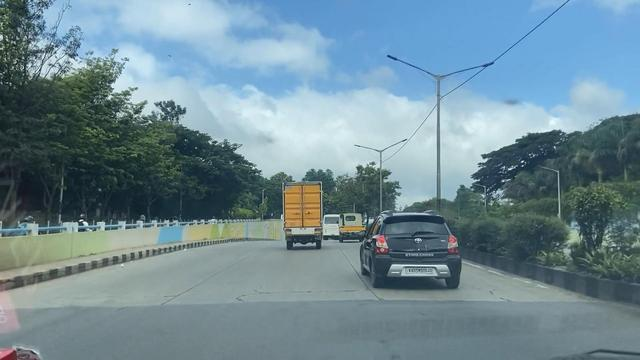HMV: (283, 183, 320, 243)
LMV: (361, 207, 455, 283)
